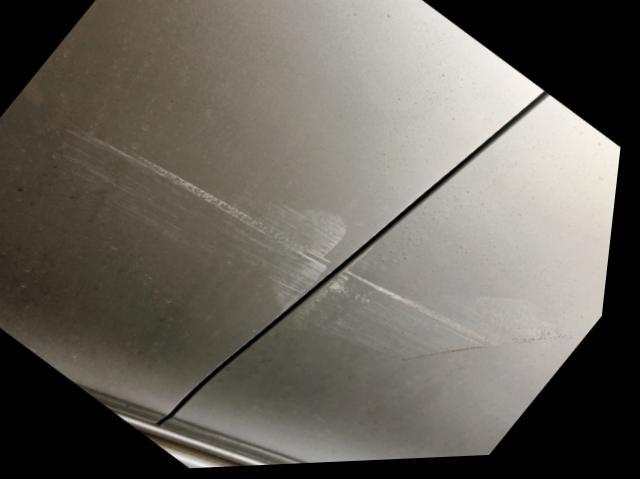scratch: (62, 122, 352, 315), (294, 272, 510, 370)
